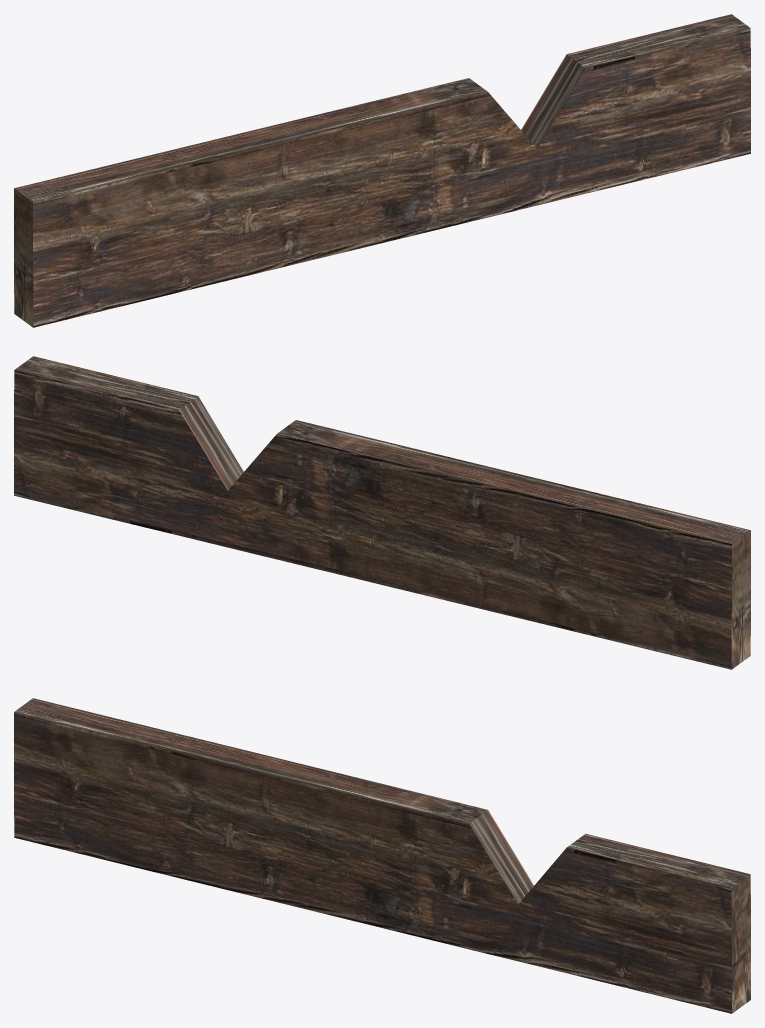
The model's file is FencePlank3.fbx.
The picture shows the model from 3 angles, top to bottom: view 1: azimuth 30°, elevation 25°; view 2: azimuth 150°, elevation 25°; view 3: azimuth 330°, elevation 25°; orthographic projection.
Visible parts, largest first — view 1: FencePlank3; view 2: FencePlank3; view 3: FencePlank3.
Boxes of the visible parts, x1,y1,x2,y2 form: FencePlank3: [14, 14, 750, 327]; FencePlank3: [14, 356, 750, 669]; FencePlank3: [14, 698, 750, 1013].
Bounding box in the file's own units: 144 × 24.32 × 6.63.
Materials: 1 (1 with a texture image).
